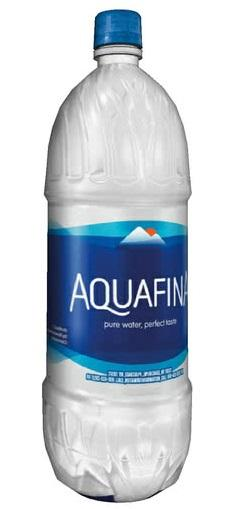bottle: (29, 5, 196, 505)
